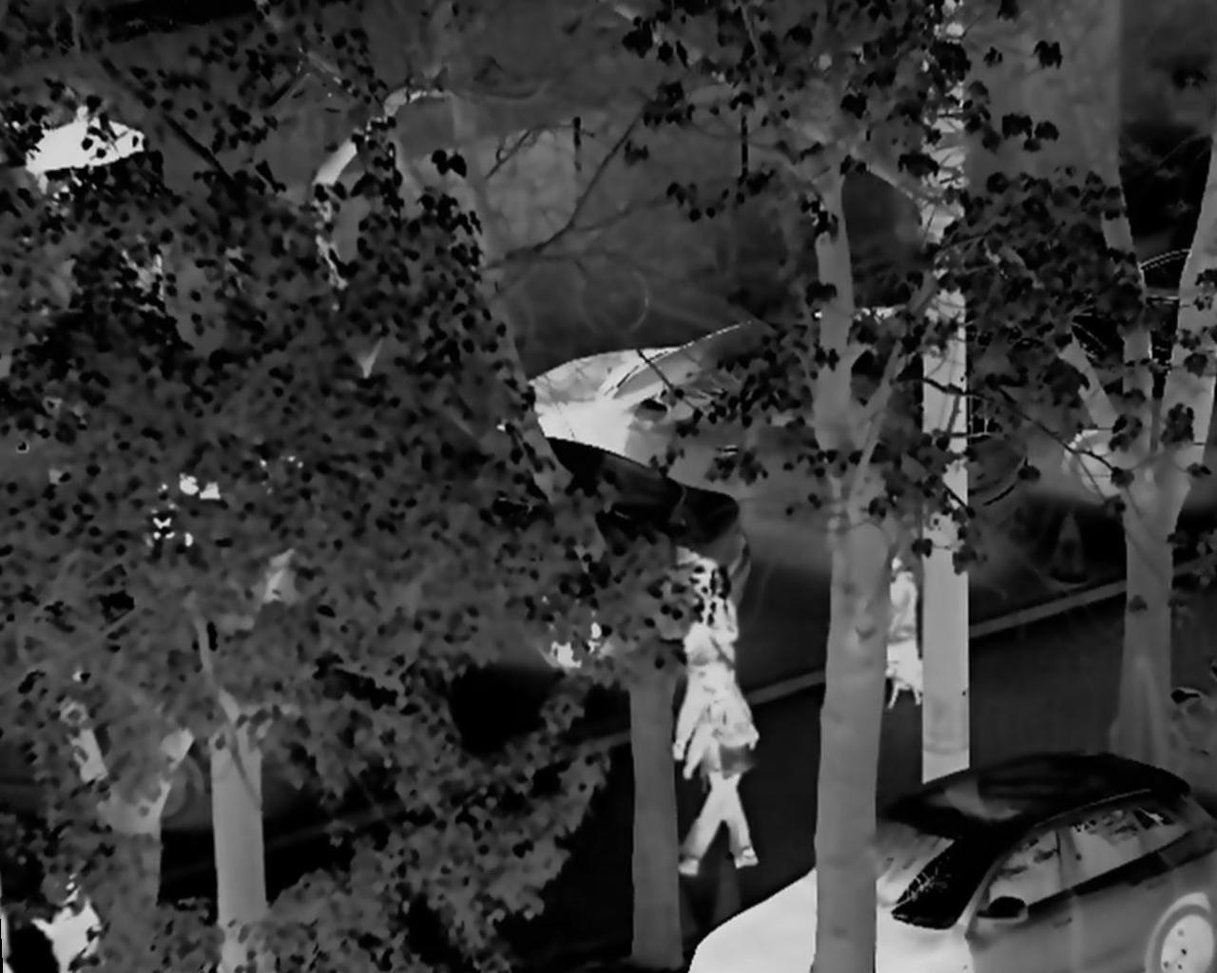person: (672, 674, 765, 877), (666, 555, 751, 769), (857, 551, 939, 722), (24, 868, 106, 973)
